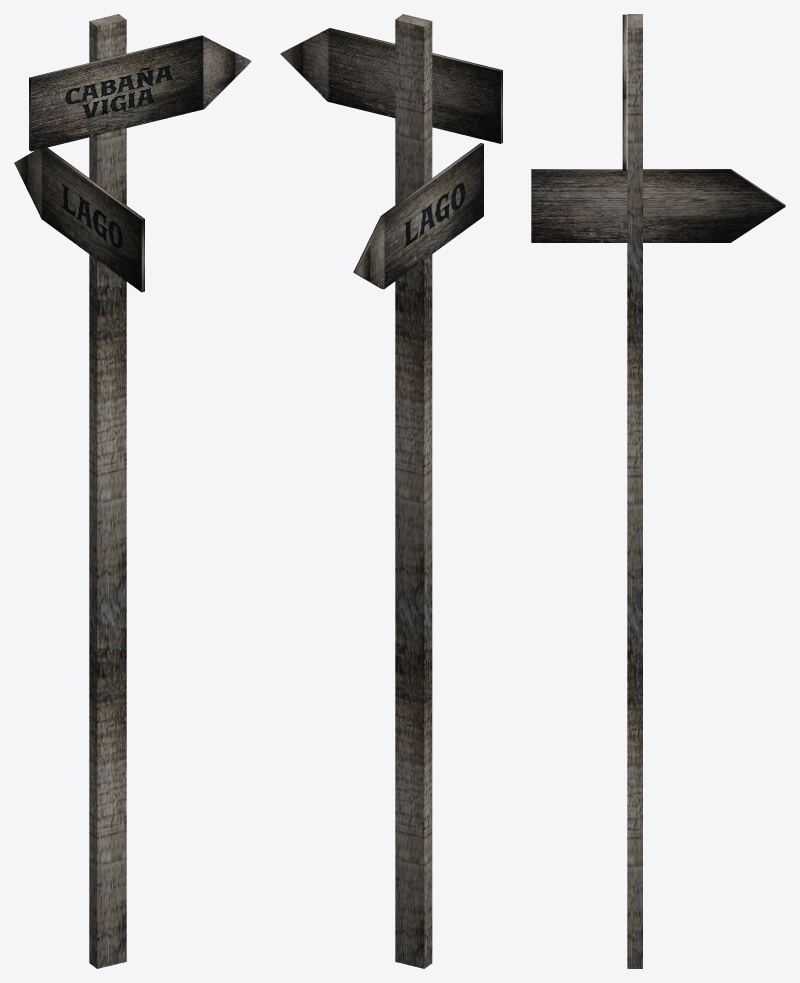
Rendered from Cartel Inicio.fbx.
The picture shows the model from 3 angles, left to right: view 1: azimuth 30°, elevation 25°; view 2: azimuth 150°, elevation 25°; view 3: azimuth 270°, elevation 25°; orthographic projection.
Parts seen in each view (by area): view 1: cARTEL; view 2: cARTEL; view 3: cARTEL.
Part boxes in pixels (bbox=[...]): cARTEL: bbox=[14, 14, 251, 968]; cARTEL: bbox=[280, 14, 502, 968]; cARTEL: bbox=[531, 14, 785, 968].
Size of the model in its own units: 63.77 by 260 by 63.77.
